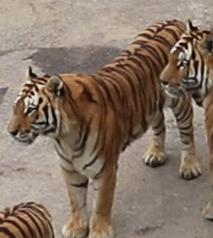tiger: (8, 19, 186, 237)
